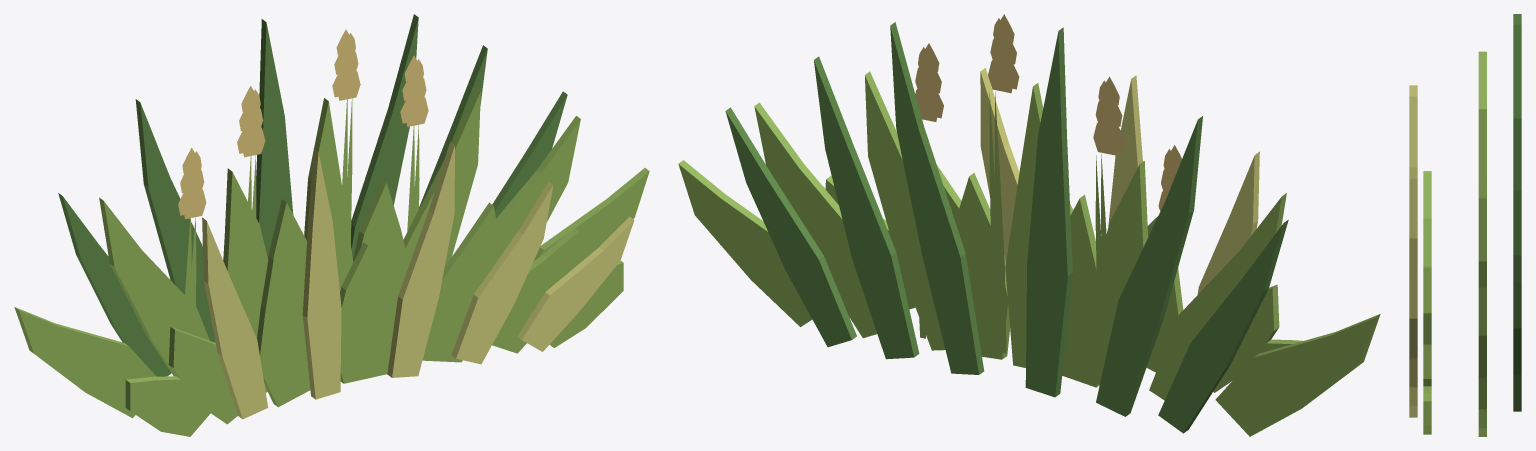
File: GG-VEG-GRASS-COASTAL-TUFT-001_LOD_CLOSE.glb
3 renders of one model, left to right at view 1: azimuth 30°, elevation 25°; view 2: azimuth 150°, elevation 25°; view 3: azimuth 270°, elevation 25°, orthographic. The views are drawn at different scales.
Visible parts, largest first — view 1: GG_VEG_V2_HIGHLIGHT_BLADE_3, GG_VEG_V2_HIGHLIGHT_BLADE_2, GG_VEG_V2_MID_BLADE_1, GG_VEG_V2_MID_BLADE_2, GG_VEG_V2_FRONT_LEAF_4, GG_VEG_V2_HIGHLIGHT_BLADE_1, GG_VEG_V2_HIGHLIGHT_BLADE_4, GG_VEG_V2_FRONT_LEAF_3, GG_VEG_V2_REAR_BLADE_1, GG_VEG_V2_FRONT_LEAF_5, GG_VEG_V2_REAR_BLADE_2, GG_VEG_V2_HIGHLIGHT_BLADE_5 (+22 smaller); view 2: GG_VEG_V2_REAR_BLADE_2, GG_VEG_V2_REAR_BLADE_3, GG_VEG_V2_REAR_BLADE_1, GG_VEG_V2_REAR_BLADE_4, GG_VEG_V2_MID_BLADE_1, GG_VEG_V2_REAR_BLADE_6, GG_VEG_V2_REAR_BLADE_5, GG_VEG_V2_MID_BLADE_6, GG_VEG_V2_MID_BLADE_7, GG_VEG_V2_MID_BLADE_5, GG_VEG_V2_MID_BLADE_4, GG_VEG_V2_MID_BLADE_8 (+15 smaller); view 3: GG_VEG_V2_REAR_BLADE_6, GG_VEG_V2_HIGHLIGHT_BLADE_3, GG_VEG_V2_REAR_BLADE_2, GG_VEG_V2_REAR_BLADE_4, GG_VEG_V2_MID_BLADE_6, GG_VEG_V2_MID_BLADE_5, GG_VEG_V2_MID_BLADE_4, GG_VEG_V2_HIGHLIGHT_BLADE_4, GG_VEG_V2_HIGHLIGHT_BLADE_2, GG_VEG_V2_FRONT_LEAF_5, GG_VEG_V2_REAR_BLADE_3, GG_VEG_V2_MID_BLADE_7 (+6 smaller).
Boxes of the visible parts, x1=… form: GG_VEG_V2_HIGHLIGHT_BLADE_3: x1=387, y1=142, x2=454, y2=377; GG_VEG_V2_HIGHLIGHT_BLADE_2: x1=302, y1=148, x2=341, y2=399; GG_VEG_V2_MID_BLADE_1: x1=14, y1=307, x2=156, y2=417; GG_VEG_V2_MID_BLADE_2: x1=99, y1=197, x2=209, y2=376; GG_VEG_V2_FRONT_LEAF_4: x1=340, y1=242, x2=397, y2=383; GG_VEG_V2_HIGHLIGHT_BLADE_1: x1=202, y1=217, x2=268, y2=419; GG_VEG_V2_HIGHLIGHT_BLADE_4: x1=451, y1=182, x2=553, y2=364; GG_VEG_V2_FRONT_LEAF_3: x1=257, y1=256, x2=310, y2=407; GG_VEG_V2_REAR_BLADE_1: x1=135, y1=99, x2=215, y2=342; GG_VEG_V2_FRONT_LEAF_5: x1=422, y1=202, x2=501, y2=362; GG_VEG_V2_REAR_BLADE_2: x1=256, y1=19, x2=293, y2=257; GG_VEG_V2_HIGHLIGHT_BLADE_5: x1=517, y1=216, x2=634, y2=351; GG_VEG_V2_REAR_BLADE_2: x1=1025, y1=27, x2=1072, y2=397; GG_VEG_V2_REAR_BLADE_3: x1=890, y1=22, x2=984, y2=374; GG_VEG_V2_REAR_BLADE_1: x1=1096, y1=116, x2=1202, y2=416; GG_VEG_V2_REAR_BLADE_4: x1=814, y1=56, x2=919, y2=359; GG_VEG_V2_MID_BLADE_1: x1=1215, y1=314, x2=1380, y2=436; GG_VEG_V2_REAR_BLADE_6: x1=725, y1=107, x2=856, y2=347; GG_VEG_V2_REAR_BLADE_5: x1=1158, y1=219, x2=1288, y2=433; GG_VEG_V2_MID_BLADE_6: x1=754, y1=102, x2=877, y2=338; GG_VEG_V2_MID_BLADE_7: x1=678, y1=160, x2=812, y2=326; GG_VEG_V2_MID_BLADE_5: x1=865, y1=71, x2=945, y2=350; GG_VEG_V2_MID_BLADE_4: x1=1005, y1=83, x2=1043, y2=367; GG_VEG_V2_MID_BLADE_8: x1=1062, y1=194, x2=1099, y2=387; GG_VEG_V2_REAR_BLADE_6: x1=1513, y1=283, x2=1521, y2=411; GG_VEG_V2_HIGHLIGHT_BLADE_3: x1=1409, y1=178, x2=1417, y2=277; GG_VEG_V2_REAR_BLADE_2: x1=1513, y1=24, x2=1521, y2=118; GG_VEG_V2_REAR_BLADE_4: x1=1513, y1=190, x2=1521, y2=282; GG_VEG_V2_MID_BLADE_6: x1=1478, y1=287, x2=1486, y2=377; GG_VEG_V2_MID_BLADE_5: x1=1478, y1=198, x2=1486, y2=287; GG_VEG_V2_MID_BLADE_4: x1=1478, y1=109, x2=1486, y2=198; GG_VEG_V2_HIGHLIGHT_BLADE_4: x1=1409, y1=277, x2=1417, y2=360; GG_VEG_V2_HIGHLIGHT_BLADE_2: x1=1409, y1=96, x2=1417, y2=178; GG_VEG_V2_FRONT_LEAF_5: x1=1423, y1=267, x2=1431, y2=344; GG_VEG_V2_REAR_BLADE_3: x1=1513, y1=118, x2=1521, y2=190; GG_VEG_V2_MID_BLADE_7: x1=1478, y1=378, x2=1486, y2=436.
Size of the model in its own units: 1.39 by 0.7296 by 0.243.
